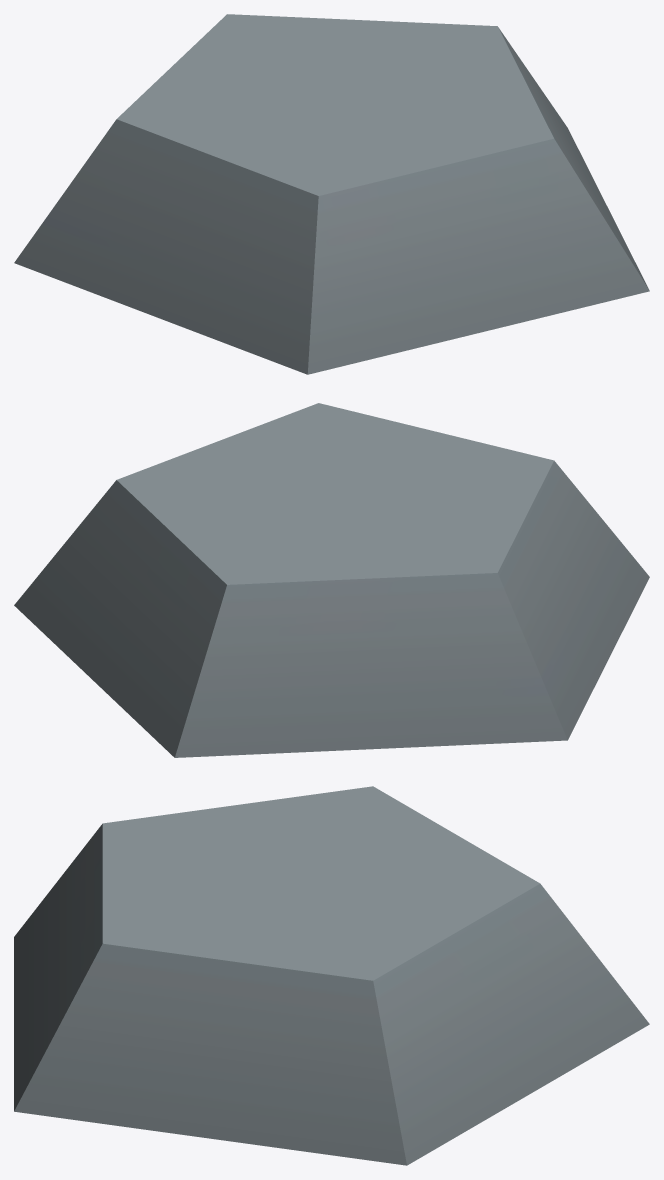
File: rock-a.glb
3 renders of one model, top to bottom at view 1: azimuth 30°, elevation 25°; view 2: azimuth 150°, elevation 25°; view 3: azimuth 270°, elevation 25°, orthographic. The views are drawn at different scales.
Parts seen in each view (by area): view 1: rock_single_A; view 2: rock_single_A; view 3: rock_single_A.
Boxes of the visible parts, left/top/right/bottom form: rock_single_A: left=14, top=14, right=649, bottom=374; rock_single_A: left=14, top=403, right=649, bottom=757; rock_single_A: left=14, top=786, right=649, bottom=1165.
Bounding box in the file's own units: 0.2982 × 0.0693 × 0.2836.
1 material, 1 textured.
